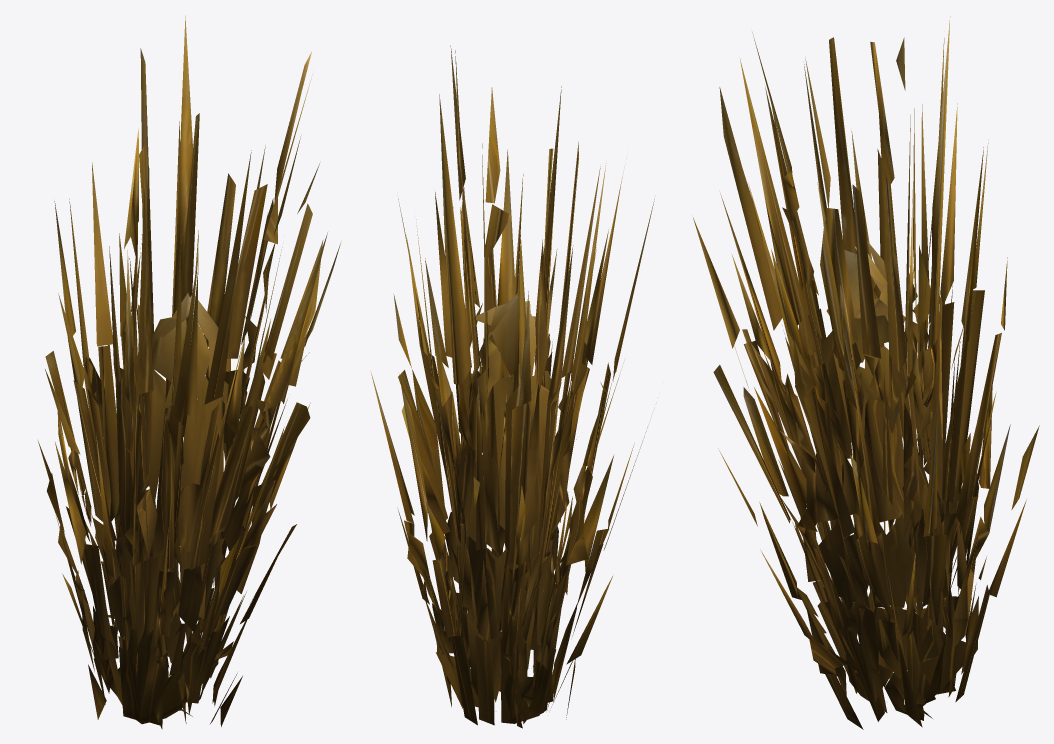
The model's file is desert_grass_blades_tall_lod1.glb.
3 renders of one model, left to right at view 1: azimuth 30°, elevation 25°; view 2: azimuth 150°, elevation 25°; view 3: azimuth 270°, elevation 25°, orthographic. The views are drawn at different scales.
Parts seen in each view (by area): view 1: desert_grass_blades_tall.001; view 2: desert_grass_blades_tall.001; view 3: desert_grass_blades_tall.001.
Part boxes in pixels (box(x1,y1,x2,y2)): desert_grass_blades_tall.001: box(38, 15, 340, 729); desert_grass_blades_tall.001: box(370, 45, 654, 728); desert_grass_blades_tall.001: box(693, 16, 1039, 729).
Bounding box in the file's own units: 0.4565 × 1.18 × 0.5105.
1 material, 1 textured.
